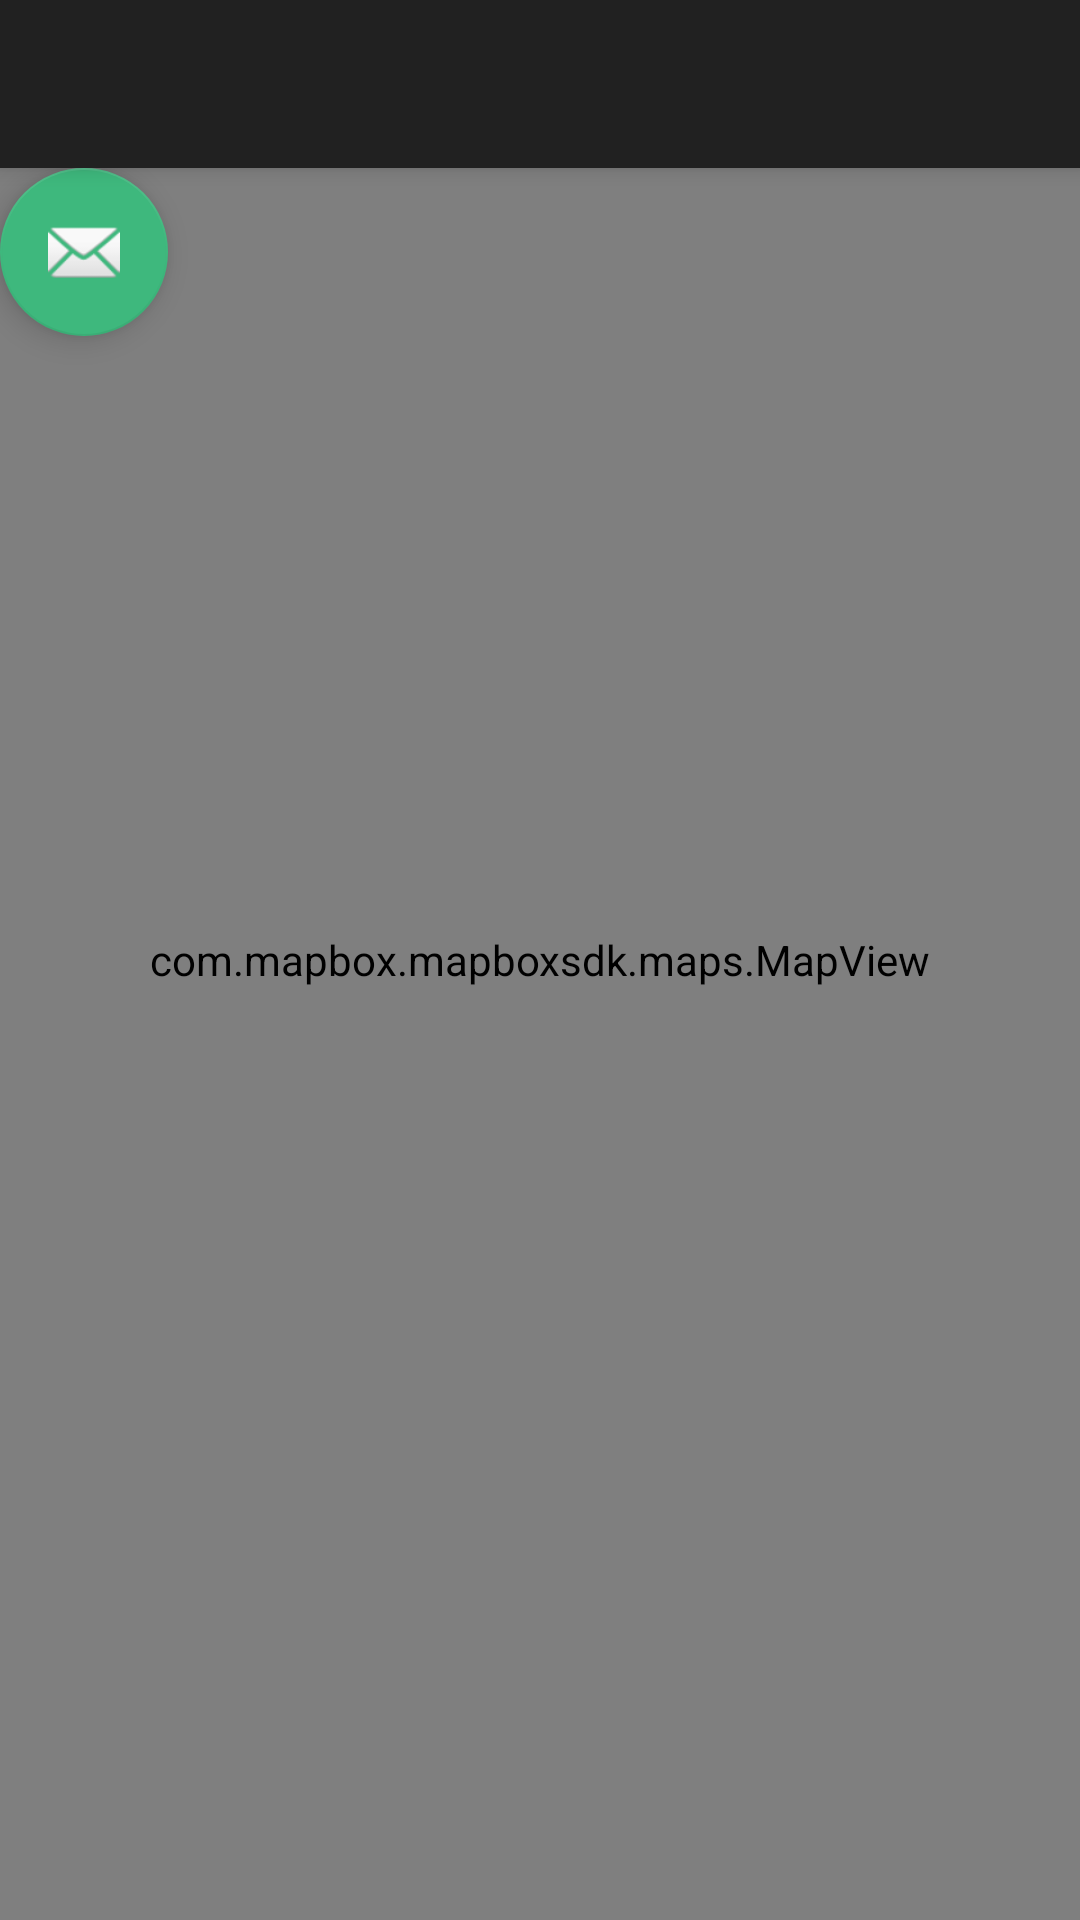

Where to tap for icons on this 1080x1920 app screen, as [x,y]:
email: [84,252]
